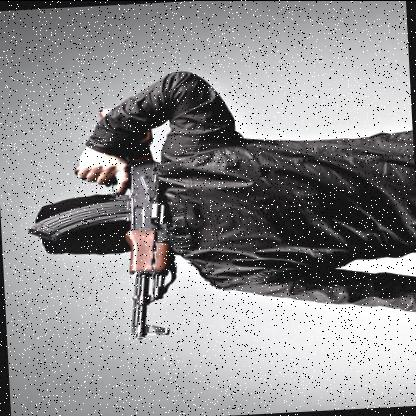rifle: (97, 101, 200, 348)
